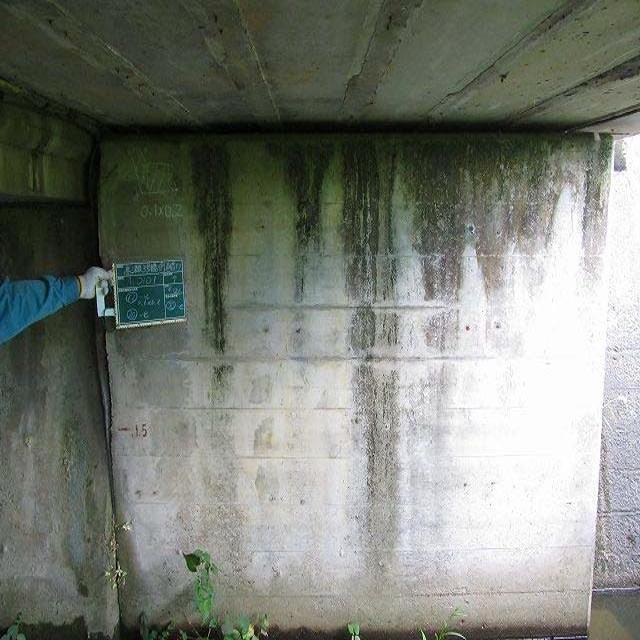leakage: (279, 123, 610, 314), (179, 128, 240, 363)
